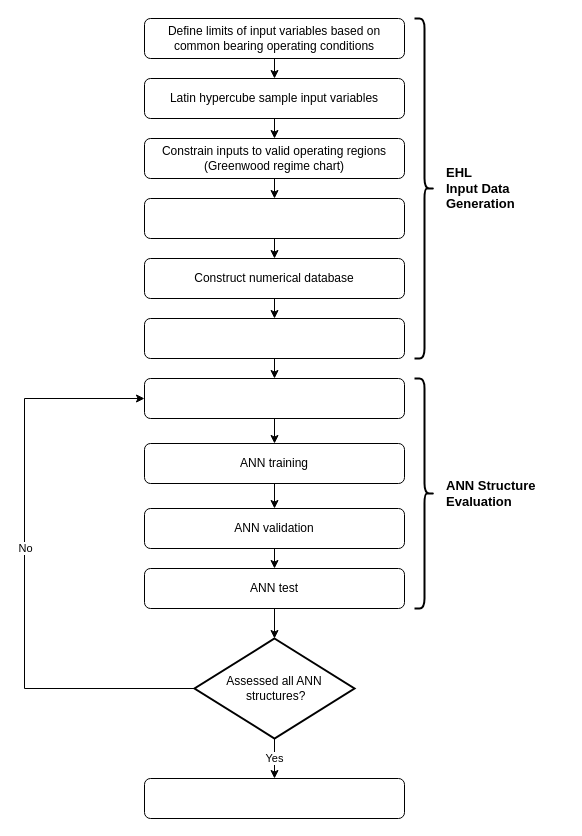
The diagram is 582 pixels wide and 836 high, and some of its shapes have lost their labels. The centre of each missing label's shape, as x and y in pixels:
"Define ANN structure (Hyperparameters and activation function)" goes at point (274, 398).
"Normalise inputs" goes at point (274, 338).
"Numerical EHL" goes at point (274, 218).
"Select an ANN structure based on performance" goes at point (274, 798).
